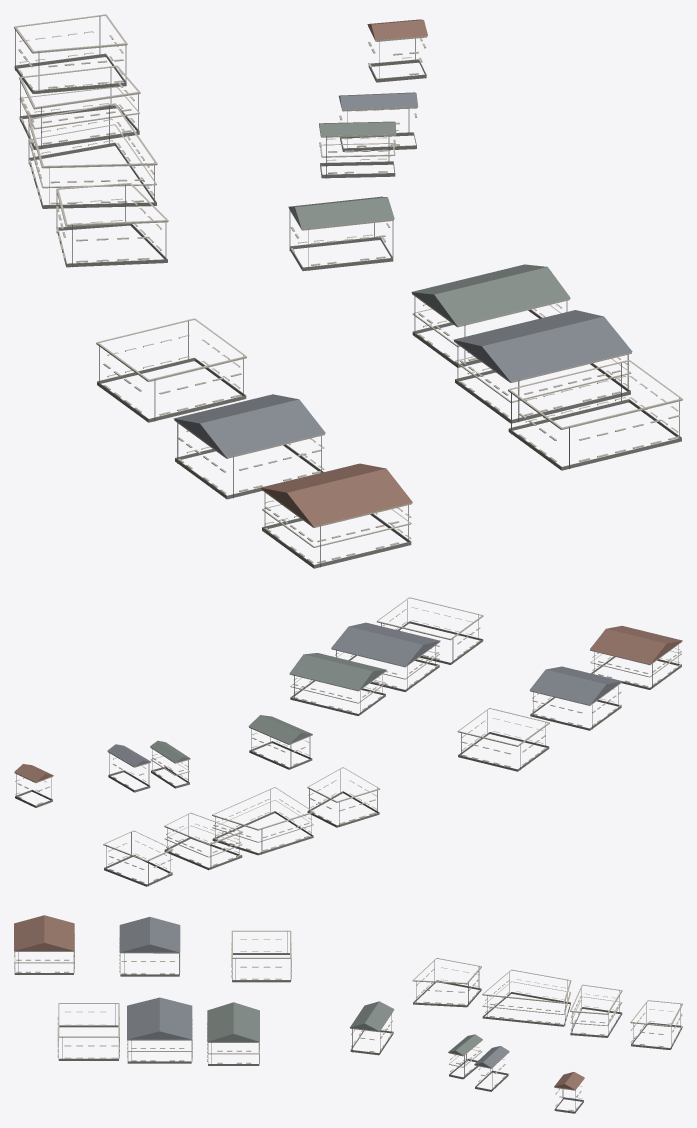
File: district_-3_1.glb
3 views of the same model, one above another, from view 1: azimuth 30°, elevation 25°; view 2: azimuth 150°, elevation 25°; view 3: azimuth 270°, elevation 25° (orthographic). The views are drawn at different scales.
Parts seen in each view (by area): view 1: RoofMetal, MasonryTrim, MetalDetails; view 2: MasonryTrim, RoofMetal, MetalDetails; view 3: RoofMetal, MasonryTrim, MetalDetails.
Boxes of the visible parts, x1=… form: RoofMetal: x1=173, y1=19, x2=632, y2=526; MasonryTrim: x1=14, y1=14, x2=682, y2=568; MetalDetails: x1=15, y1=16, x2=679, y2=567; MasonryTrim: x1=14, y1=597, x2=682, y2=886; RoofMetal: x1=14, y1=622, x2=682, y2=782; MetalDetails: x1=16, y1=600, x2=678, y2=886; RoofMetal: x1=14, y1=915, x2=584, y2=1089; MasonryTrim: x1=14, y1=930, x2=682, y2=1113; MetalDetails: x1=18, y1=932, x2=680, y2=1112.
Bounding box in the file's own units: 111 × 10.1 × 188.
